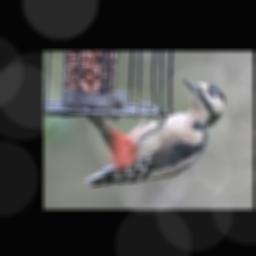Woodpecker: (85, 78, 226, 187)
